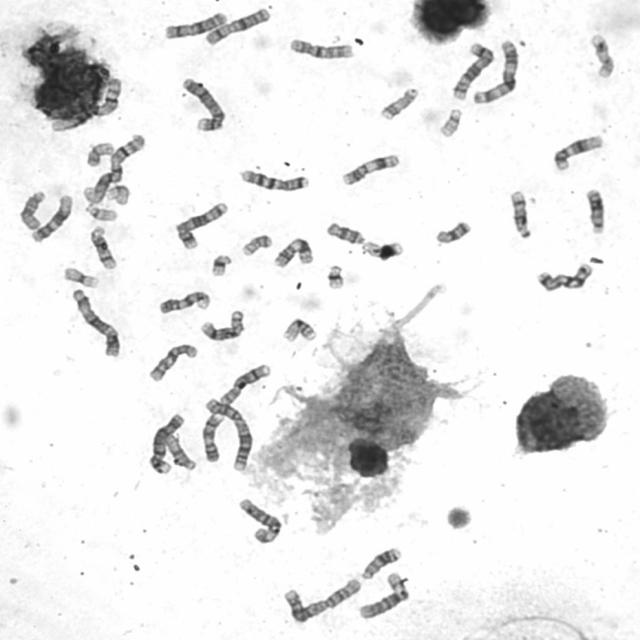A1: (82, 133, 146, 204), (49, 76, 122, 132)
A2: (282, 578, 363, 625), (204, 397, 254, 471)
A3: (72, 287, 122, 358), (470, 38, 520, 107)
B4: (181, 76, 227, 132), (148, 412, 184, 477)
B5: (449, 41, 496, 101), (176, 203, 229, 253)
C10: (148, 342, 198, 383), (288, 37, 354, 59)
C11: (337, 154, 401, 188), (274, 236, 316, 270)
C12: (30, 193, 74, 244), (552, 134, 606, 172)
C6: (356, 572, 409, 620), (238, 497, 283, 544)
C7: (238, 167, 310, 192), (536, 263, 594, 292)
C8: (219, 362, 272, 405), (200, 308, 246, 341)
C9: (156, 289, 214, 315), (201, 410, 225, 462)
D13: (361, 547, 402, 580), (584, 187, 607, 237)
D14: (506, 187, 534, 241), (88, 226, 119, 270)
D15: (17, 190, 47, 232), (164, 432, 197, 470)
E16: (282, 315, 318, 343), (360, 241, 404, 261)
E17: (375, 86, 421, 121), (587, 35, 616, 79)
E18: (326, 221, 367, 247), (434, 218, 472, 245)
F19: (62, 266, 99, 289), (105, 184, 132, 206)
F20: (241, 233, 274, 258), (86, 141, 115, 167)
G21: (324, 264, 348, 290), (208, 253, 232, 278)
G22: (437, 106, 464, 140), (82, 203, 118, 223)
X: (204, 8, 272, 46), (163, 9, 229, 40)
